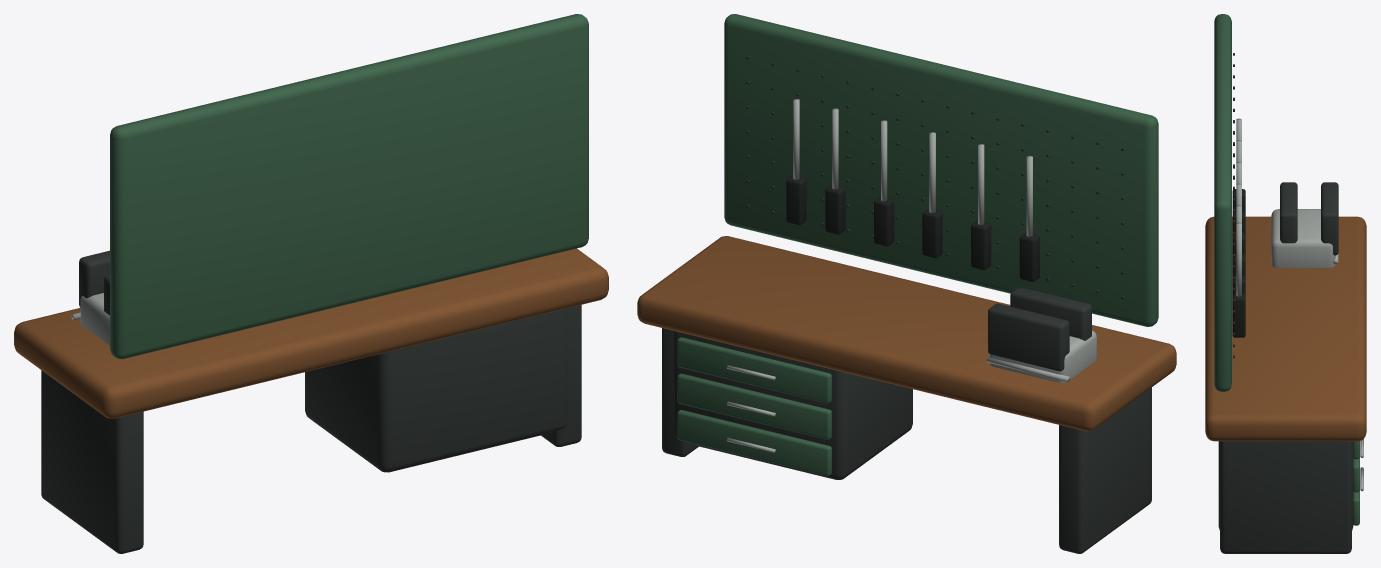
The model's file is maintenance_bench_v3.glb.
3 renders of one model, left to right at view 1: azimuth 30°, elevation 25°; view 2: azimuth 150°, elevation 25°; view 3: azimuth 270°, elevation 25°, orthographic. The views are drawn at different scales.
Parts seen in each view (by area): view 1: ToolBoard, BenchTop, BenchDrawerBox, BenchLeg-1.43, BenchLeg1.43, ViceJawA, ViceBase; view 2: ToolBoard, BenchTop, BenchLeg-1.43, BenchDrawerBox, BenchDrawer_1, BenchDrawer_2, BenchDrawer_0, ViceJawA, ViceJawB, BenchLeg1.43, ViceBase, ToolGrip_4 (+5 smaller); view 3: BenchTop, BenchLeg1.43, ToolBoard, ViceBase, ViceJawA, ViceJawB, ToolGrip_5, ToolShaft_5, BenchDrawerBox, BenchDrawer_0, BenchDrawer_1.
Boxes of the visible parts, x1,y1,x2,y2 form: ToolBoard: (110,14,588,359); BenchTop: (14,248,608,418); BenchDrawerBox: (305,308,567,472); BenchLeg-1.43: (41,370,143,553); BenchLeg1.43: (541,305,581,446); ViceJawA: (79,250,109,307); ViceBase: (80,293,109,345); ToolBoard: (724,14,1158,326); BenchTop: (637,236,1176,431); BenchLeg-1.43: (1059,387,1151,553); BenchDrawerBox: (674,331,912,479); BenchDrawer_1: (677,373,831,439); BenchDrawer_2: (677,337,831,403); BenchDrawer_0: (677,410,831,476); ViceJawA: (988,303,1069,371); ViceJawB: (1010,287,1091,340); BenchLeg1.43: (662,328,698,456); ViceBase: (989,330,1096,382); ToolGrip_4: (825,185,845,234); BenchTop: (1205,216,1366,441); BenchLeg1.43: (1220,441,1351,553); ToolBoard: (1214,14,1231,391); ViceBase: (1271,209,1335,267); ViceJawA: (1321,182,1338,255); ViceJawB: (1280,182,1297,243); ToolGrip_5: (1232,293,1245,337); ToolShaft_5: (1236,222,1241,296); BenchDrawerBox: (1218,441,1353,530); BenchDrawer_0: (1353,490,1359,525); BenchDrawer_1: (1353,457,1359,492).
Size of the model in its own units: 3.3 by 2.67 by 1.1.
